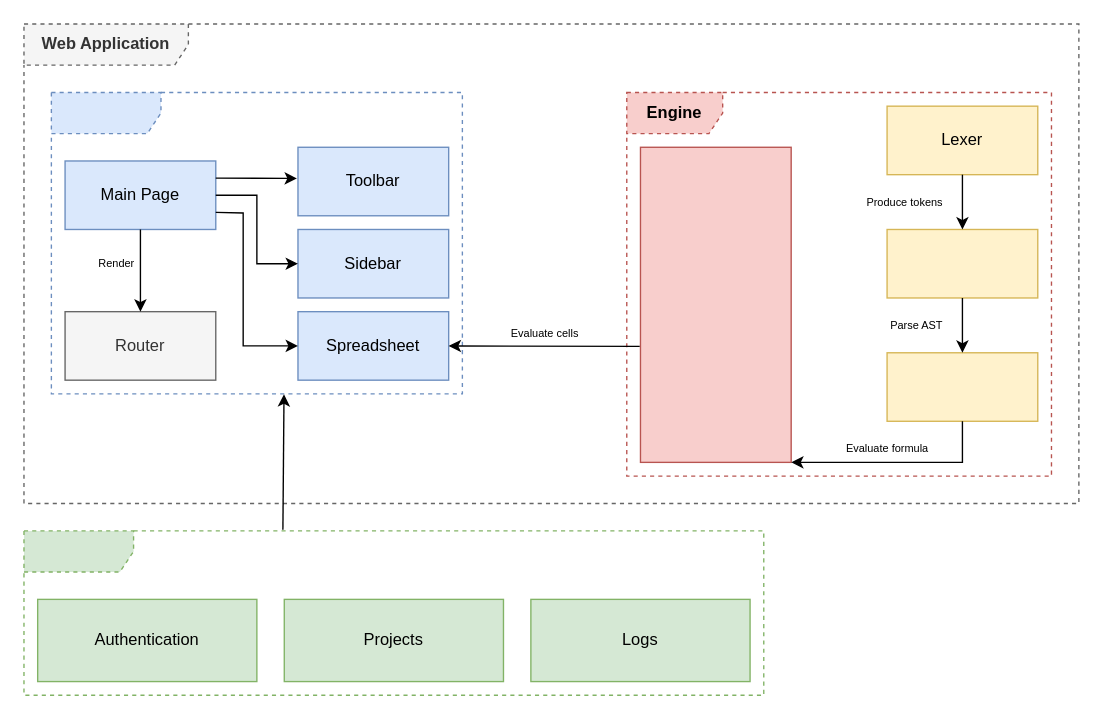
Image size: 1103x719. Some labels were removed from this diagram. The shapes that lost their labels are listed below. From the top down, each one's box as (x1, y1, x2, y2) in pixels, then its label:
(50, 91, 462, 394): Front-end
(886, 228, 1038, 298): Parser
(639, 146, 791, 462): Evaluator
(886, 351, 1038, 421): Runtime
(23, 530, 764, 695): Database
